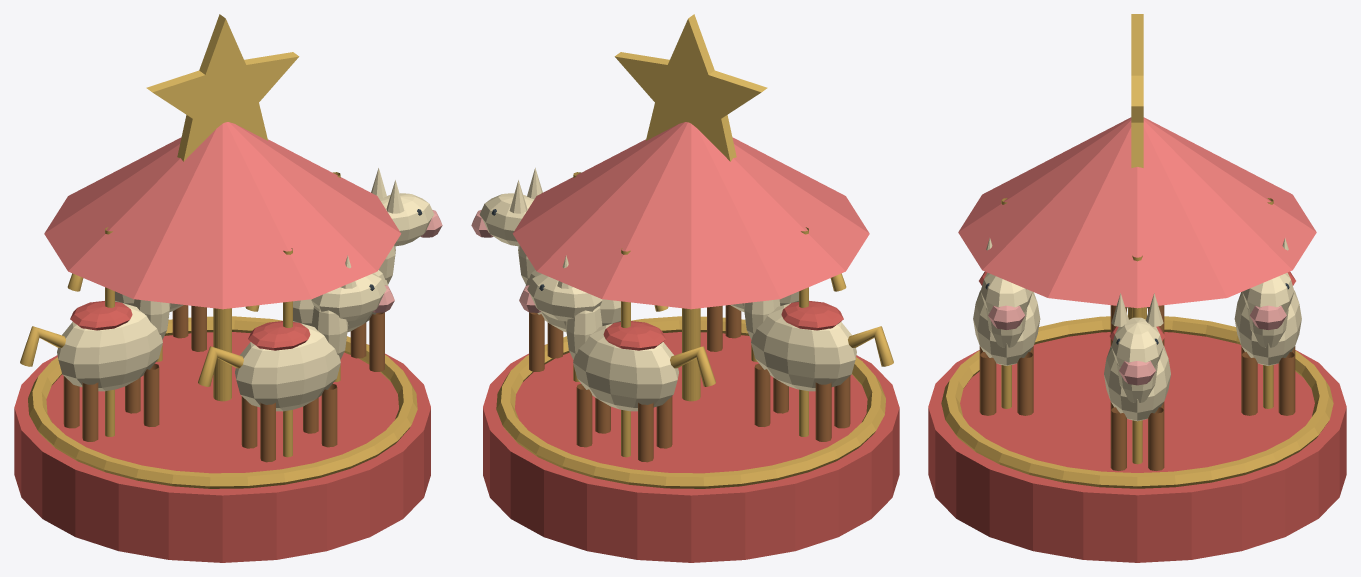
The model's file is mexico-carousel-mini.glb.
The picture shows the model from 3 angles, left to right: view 1: azimuth 30°, elevation 25°; view 2: azimuth 150°, elevation 25°; view 3: azimuth 270°, elevation 25°; orthographic projection.
Visible parts, largest first — view 1: ちいさな まるい だい, まわる やね, だいの ふち, ほし, もくばの からだ.002, もくばの からだ.003, もくばの かお.003, ほしの ぼう, もくばの かお, もくばの くら.002, もくばの くら.003, もくばの くび.003 (+15 smaller); view 2: ちいさな まるい だい, まわる やね, だいの ふち, ほし, もくばの からだ.002, もくばの からだ.001, もくばの かお.001, ほしの ぼう, もくばの かお, もくばの くら.002, もくばの くら.001, もくばの くび.001 (+15 smaller); view 3: ちいさな まるい だい, まわる やね, だいの ふち, もくばの からだ, もくばの からだ.001, もくばの からだ.003, ほし, もくばの かお, もくばの かお.001, もくばの かお.003, もくばの あし.007, もくばの あし.014 (+11 smaller).
Boxes of the visible parts, left/top/right/bottom form: ちいさな まるい だい: left=14, top=332, right=430, bottom=562; まわる やね: left=44, top=122, right=401, bottom=309; だいの ふち: left=28, top=316, right=417, bottom=488; ほし: left=146, top=14, right=299, bottom=161; もくばの からだ.002: left=57, top=303, right=162, bottom=391; もくばの からだ.003: left=235, top=323, right=340, bottom=411; もくばの かお.003: left=311, top=273, right=386, bottom=321; ほしの ぼう: left=213, top=308, right=231, bottom=401; もくばの かお: left=380, top=193, right=434, bottom=246; もくばの くら.002: left=70, top=301, right=132, bottom=330; もくばの くら.003: left=248, top=321, right=310, bottom=350; もくばの くび.003: left=311, top=306, right=348, bottom=359; ちいさな まるい だい: left=483, top=332, right=899, bottom=562; まわる やね: left=512, top=122, right=869, bottom=309; だいの ふち: left=496, top=316, right=885, bottom=488; ほし: left=614, top=14, right=767, bottom=161; もくばの からだ.002: left=751, top=303, right=856, bottom=391; もくばの からだ.001: left=573, top=323, right=678, bottom=411; もくばの かお.001: left=527, top=273, right=602, bottom=321; ほしの ぼう: left=682, top=308, right=700, bottom=401; もくばの かお: left=479, top=193, right=533, bottom=246; もくばの くら.002: left=781, top=301, right=843, bottom=330; もくばの くら.001: left=603, top=321, right=665, bottom=350; もくばの くび.001: left=565, top=306, right=602, bottom=359; ちいさな まるい だい: left=928, top=332, right=1346, bottom=562; まわる やね: left=958, top=117, right=1316, bottom=308; だいの ふち: left=941, top=316, right=1333, bottom=488; もくばの からだ: left=1104, top=345, right=1170, bottom=421; もくばの からだ.001: left=1234, top=290, right=1301, bottom=365; もくばの からだ.003: left=973, top=290, right=1040, bottom=365; ほし: left=1131, top=14, right=1143, bottom=167; もくばの かお: left=1111, top=317, right=1163, bottom=367; もくばの かお.001: left=1242, top=272, right=1294, bottom=312; もくばの かお.003: left=980, top=272, right=1032, bottom=312; もくばの あし.007: left=1278, top=352, right=1295, bottom=415; もくばの あし.014: left=979, top=352, right=996, bottom=415.
Bounding box in the file's own units: 1.3 × 1.36 × 1.12.
